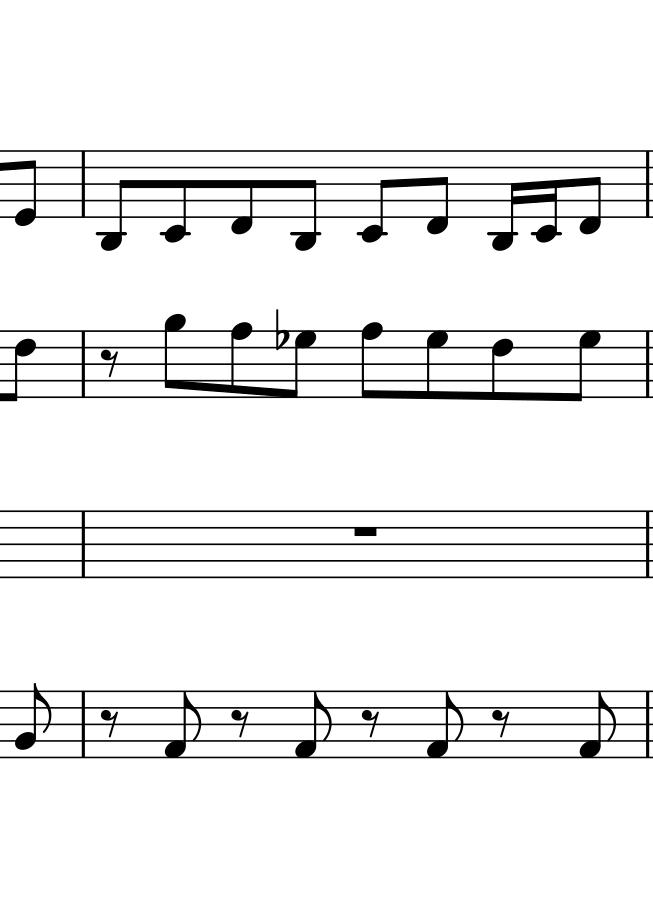16_-2: (531, 150, 559, 248)
16_-3: (488, 149, 520, 253)
8_-1: (228, 150, 256, 238), (425, 149, 451, 237), (578, 149, 604, 237)
8_-2: (356, 148, 392, 244), (158, 150, 191, 244)
8_-3: (96, 151, 130, 252), (290, 151, 319, 253)
8_0: (14, 149, 40, 229)
8_1: (162, 689, 205, 761), (292, 689, 335, 761), (424, 689, 467, 761), (577, 689, 619, 761)
8_2: (15, 682, 51, 759)
8_6: (4, 330, 37, 403), (490, 327, 514, 404)
8_7: (567, 329, 600, 402), (285, 329, 315, 400), (425, 328, 449, 401)
8_8: (359, 320, 383, 401), (229, 321, 253, 400)
8_9: (162, 314, 186, 398)
Flat: (273, 307, 289, 352)
Rests1: (349, 523, 380, 539)
Rests8: (99, 708, 121, 740), (360, 707, 382, 739), (491, 708, 513, 739), (99, 348, 120, 379), (230, 708, 251, 739)
Single_barline: (74, 150, 92, 217), (74, 331, 92, 397), (74, 690, 91, 758), (638, 690, 653, 758), (76, 510, 90, 576), (640, 510, 653, 577), (640, 331, 653, 398), (640, 150, 653, 216)
